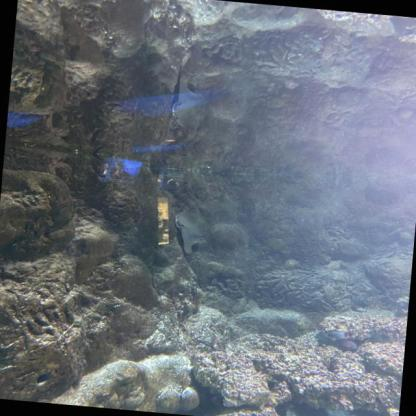stingray: (171, 205, 208, 256)
